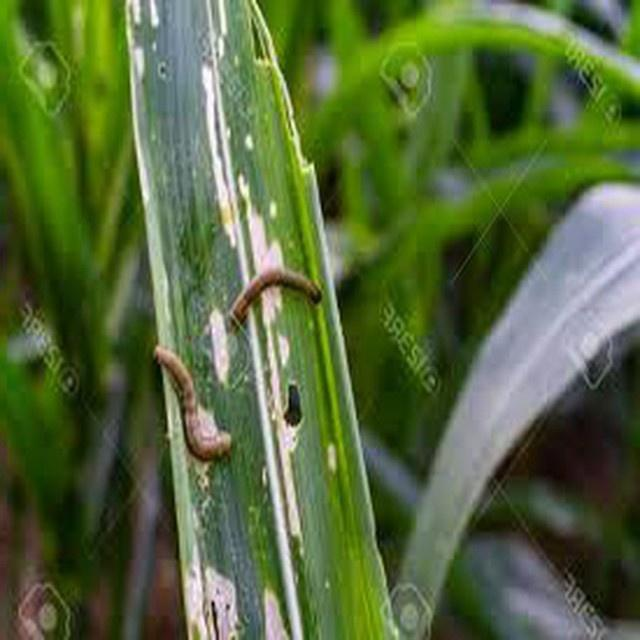gusano_cogollero: (153, 338, 235, 464), (228, 264, 320, 334)
